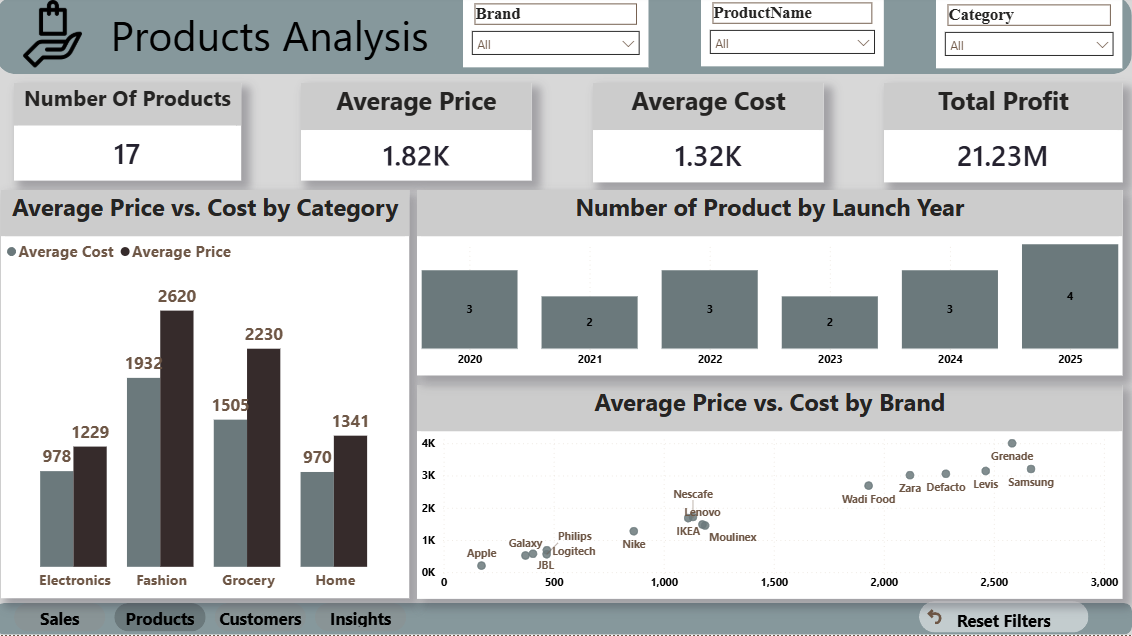

Layout of this report page (visuals, bound fields, positions):
{"tool":"powerbi","page":{"name":"Products","canvas":[1280,720],"ordinal":1},"visuals":[{"type":"shape","box":[0,0,1279.8,88.2],"z":0},{"type":"cardVisual","title":"Number Of Products","fields":{"Data":["Count(Products.ProductID)"]},"box":[20.6,98.4,255.7,110.2],"z":1000},{"type":"cardVisual","title":"Average Price","fields":{"Data":["Products.Average Price"]},"box":[343.8,98.4,260.1,110.2],"z":2000},{"type":"cardVisual","title":"Average Cost","fields":{"Data":["Products.Average Cost"]},"box":[672.5,98.4,260.1,111.7],"z":3000},{"type":"cardVisual","title":"Total Profit","fields":{"Data":["Sales.Total Profit"]},"box":[1000.7,98.4,268.9,111.7],"z":4000},{"type":"slicer","fields":{"Values":["Products.Brand"]},"box":[526.2,3.9,208.7,76.8],"z":5000},{"type":"slicer","fields":{"Values":["Products.ProductName"]},"box":[794.3,2.6,205.8,76.8],"z":6000},{"type":"slicer","fields":{"Values":["Products.Category"]},"box":[1059.4,4.3,210.1,76.8],"z":7000},{"type":"shape","box":[121.5,2.6,373.7,81.5],"z":8000},{"type":"shape","box":[0,684.4,1280,35.6],"z":9000},{"type":"pageNavigator","box":[20,684.4,445.6,32.2],"z":10000},{"type":"actionButton","box":[1040.3,681.8,191.1,35.6],"z":11000},{"type":"clusteredColumnChart","title":"Average Price vs. Cost by Category","fields":{"Category":["Products.Category"],"Y":["Products.Average Cost","Products.Average Price"]},"box":[5.9,218.9,459.9,459.9],"z":12000},{"type":"scatterChart","title":"Average Price vs. Cost by Brand","fields":{"X":["Products.Average Cost"],"Y":["Products.Average Price"],"Category":["Products.Brand"]},"box":[474.6,437.9,794.9,241],"z":13000},{"type":"columnChart","title":"Number of Product by Launch Year","fields":{"Category":["Products.LaunchYear"],"Y":["Count(Products.ProductID)"]},"box":[474.6,218.9,794.9,208.7],"z":14000},{"type":"image","box":[5.9,4.4,116.1,76.4],"z":15000}]}

Visuals, with their boxes in screenshot pixels (x1, y1, x2, y2), scaled from the page's 1280x720 canvas onto the 1132x636 screenshot:
shape: [x1=0, y1=0, x2=1131, y2=78]
"Number Of Products" cardVisual: [x1=18, y1=87, x2=244, y2=184]
"Average Price" cardVisual: [x1=304, y1=87, x2=534, y2=184]
"Average Cost" cardVisual: [x1=595, y1=87, x2=825, y2=186]
"Total Profit" cardVisual: [x1=885, y1=87, x2=1123, y2=186]
slicer - Products.Brand: [x1=465, y1=3, x2=650, y2=71]
slicer - Products.ProductName: [x1=702, y1=2, x2=884, y2=70]
slicer - Products.Category: [x1=937, y1=4, x2=1123, y2=72]
shape: [x1=107, y1=2, x2=438, y2=74]
shape: [x1=0, y1=605, x2=1131, y2=635]
pageNavigator: [x1=18, y1=605, x2=412, y2=633]
actionButton: [x1=920, y1=602, x2=1089, y2=634]
"Average Price vs. Cost by Category" clusteredColumnChart: [x1=5, y1=193, x2=412, y2=600]
"Average Price vs. Cost by Brand" scatterChart: [x1=420, y1=387, x2=1123, y2=600]
"Number of Product by Launch Year" columnChart: [x1=420, y1=193, x2=1123, y2=378]
image: [x1=5, y1=4, x2=108, y2=71]
